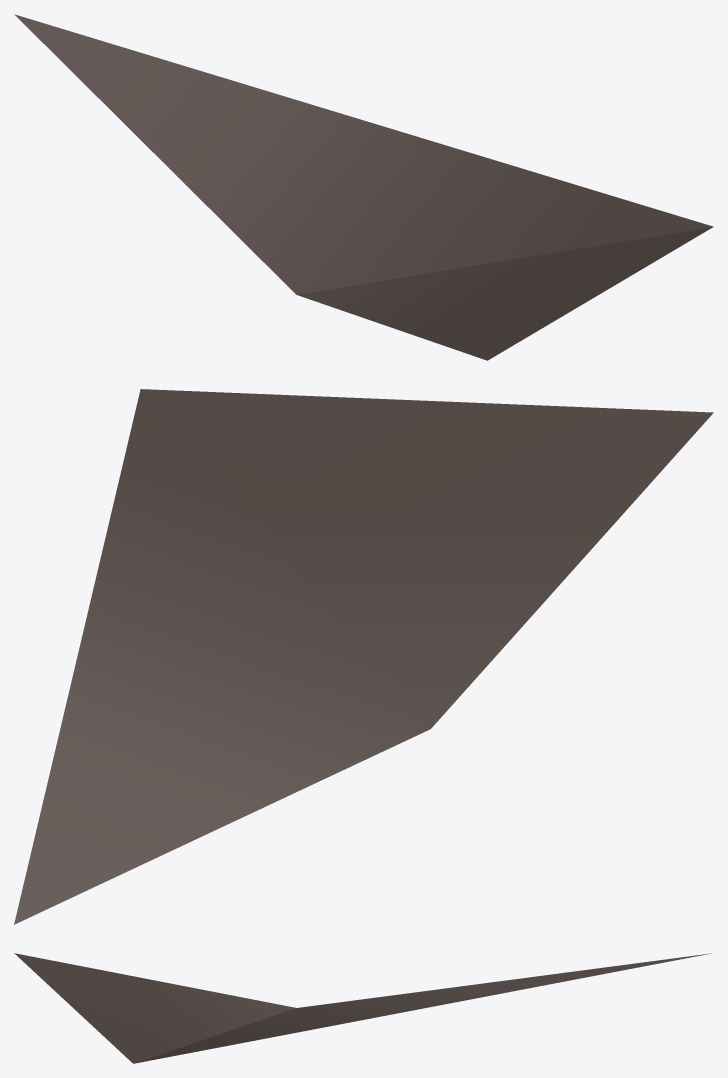
The picture shows the model from 3 angles, top to bottom: view 1: azimuth 30°, elevation 25°; view 2: azimuth 150°, elevation 25°; view 3: azimuth 270°, elevation 25°; orthographic projection. The views are drawn at different scales.
Bounding box in the file's own units: 0.00545 × 0.00126 × 0.0145.
1 material, 1 textured.
